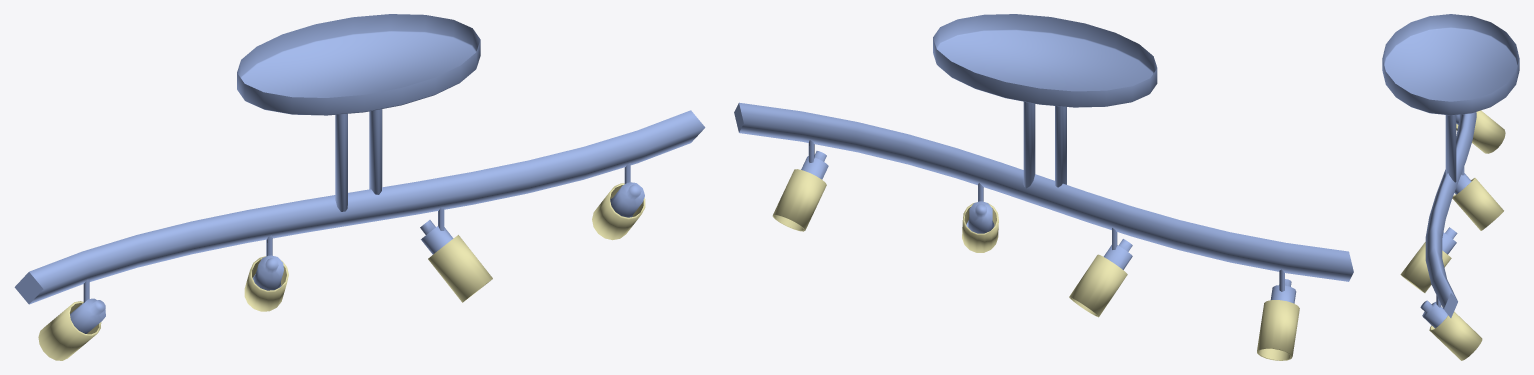
File: LightFixture.fbx
The picture shows the model from 3 angles, left to right: view 1: azimuth 30°, elevation 25°; view 2: azimuth 150°, elevation 25°; view 3: azimuth 270°, elevation 25°; orthographic projection. The views are drawn at different scales.
Visible parts, largest first — view 1: LightFixture.001; view 2: LightFixture.001; view 3: LightFixture.001.
Boxes of the visible parts, left/top/right/bottom form: LightFixture.001: left=14, top=14, right=705, bottom=360; LightFixture.001: left=734, top=14, right=1353, bottom=360; LightFixture.001: left=1382, top=14, right=1519, bottom=360.
Size of the model in its own units: 120 by 42.33 by 26.38.
